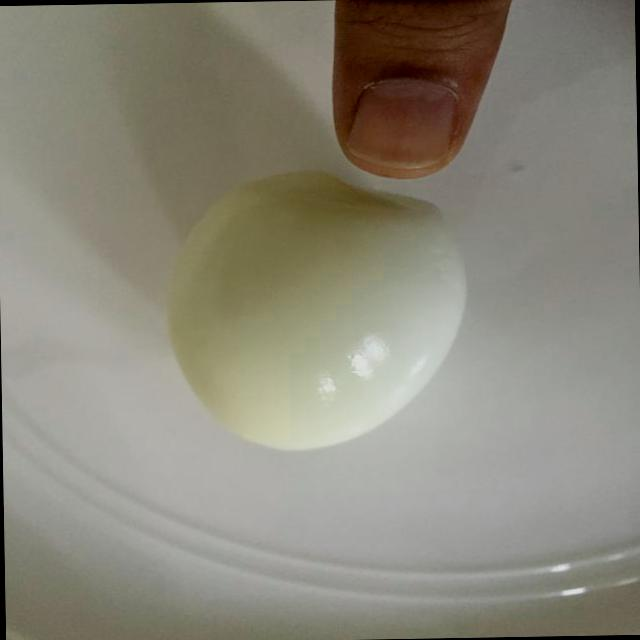Egg: (132, 166, 476, 467)
Finger: (331, 0, 520, 178)
